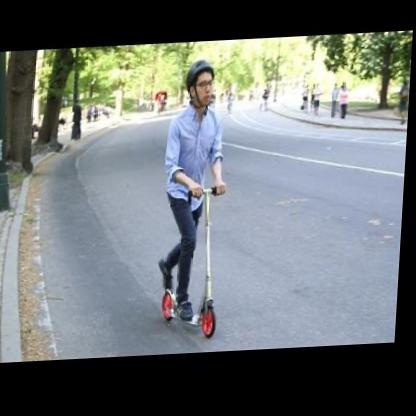With Helmet: (183, 57, 220, 111)
